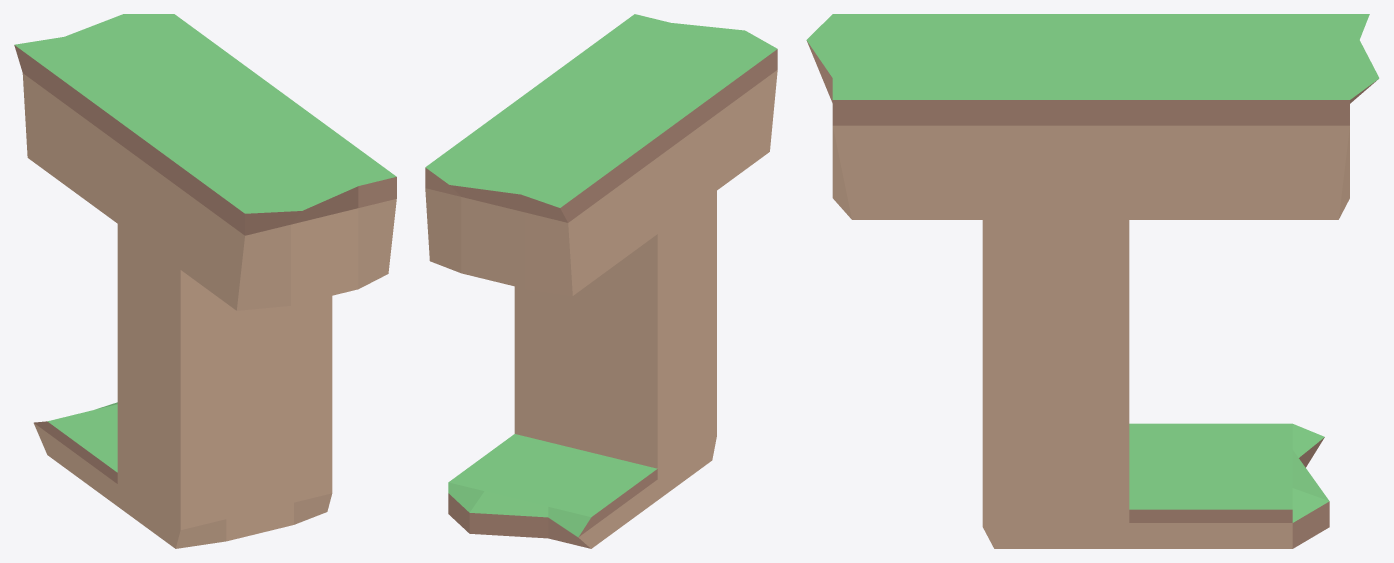
Rendered from J looking Platform.glb.
The picture shows the model from 3 angles, left to right: view 1: azimuth 30°, elevation 25°; view 2: azimuth 150°, elevation 25°; view 3: azimuth 270°, elevation 25°; orthographic projection. The views are drawn at different scales.
Visible parts, largest first — view 1: Cube; view 2: Cube; view 3: Cube.
Boxes of the visible parts, <box> form: Cube: <box>14,14,396,548</box>; Cube: <box>425,14,777,548</box>; Cube: <box>806,14,1379,548</box>.
Bounding box in the file's own units: 6.61 × 16.07 × 18.59.
1 material, 1 textured.
